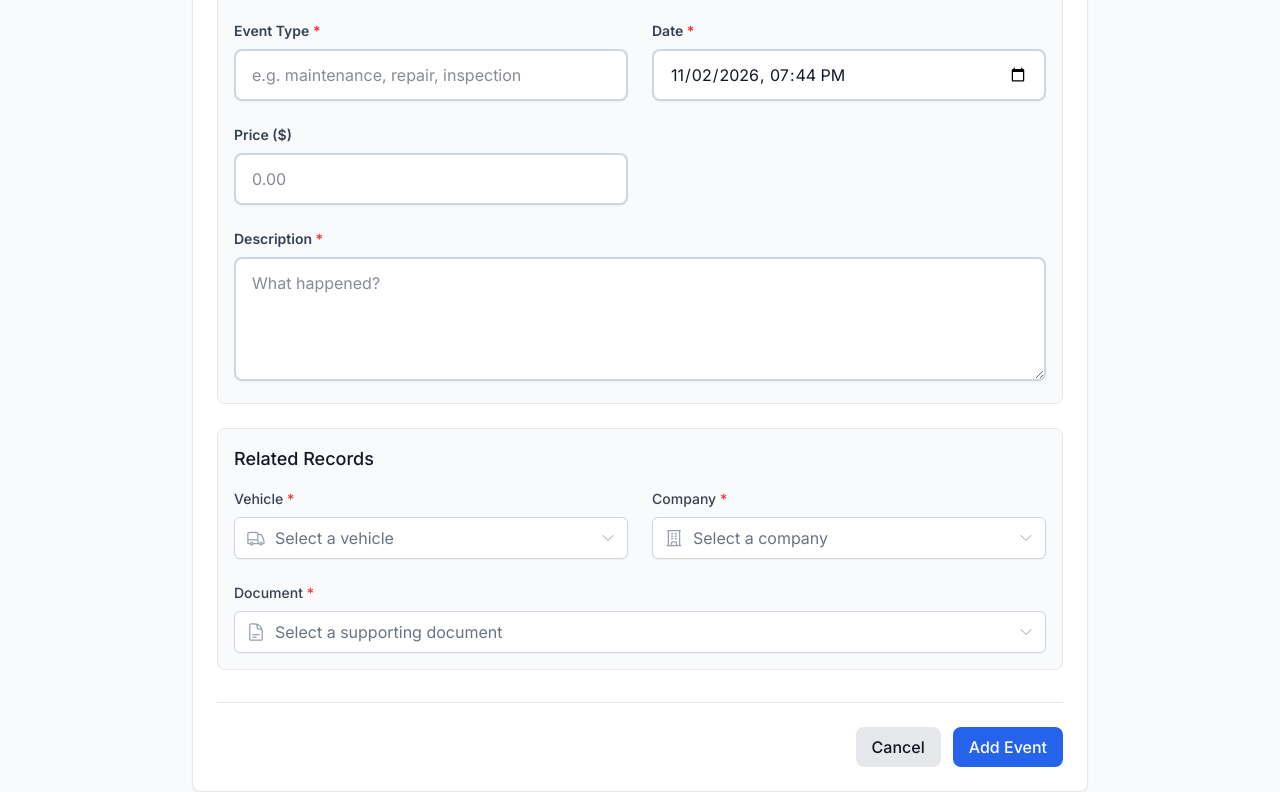
Scenario: EventForm › clears a field's error as soon as it is edited
(page scrolled)
Click the button "Add Event". click: point(1008, 747)
box: [953, 727, 1063, 767]
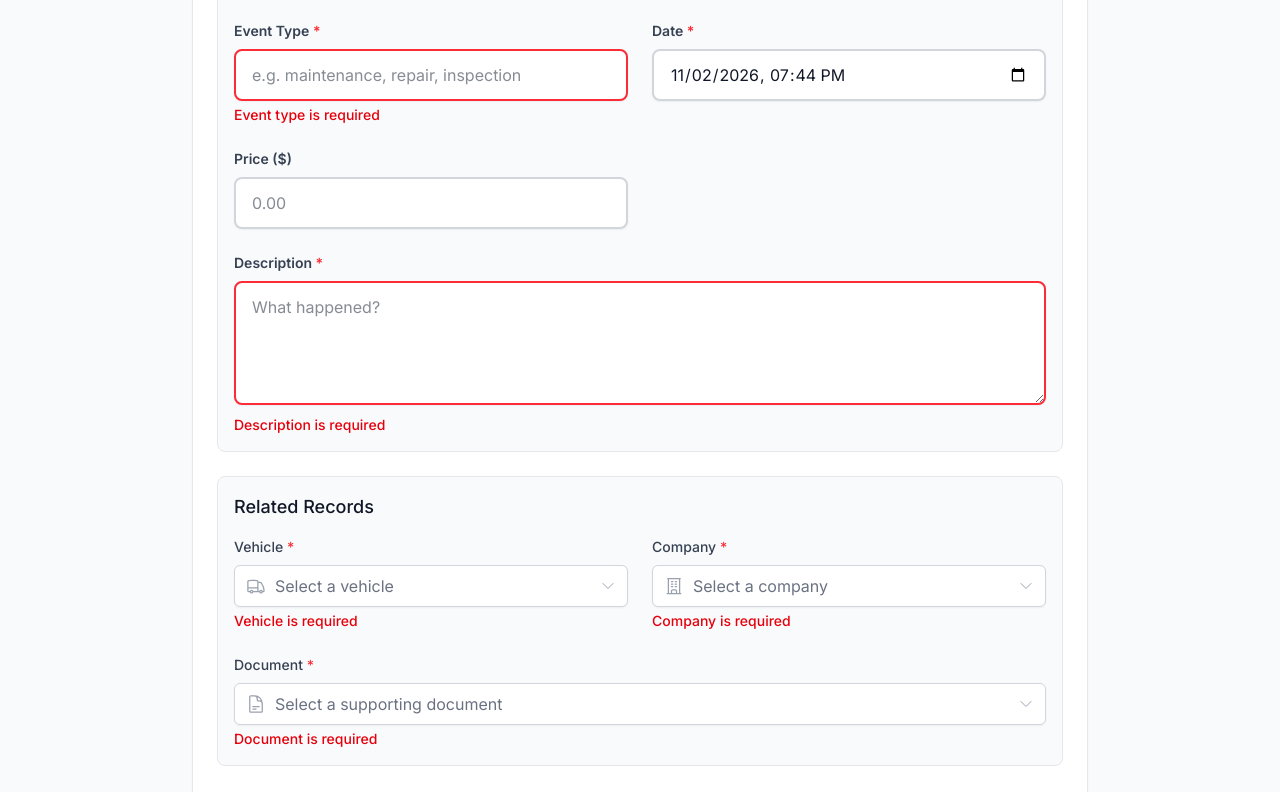
Expected: the text "Event type is required" is shown, [234, 106, 380, 123]
Type "x" into the field with placeholder "e.g. maintenance, repair, inspection". click: point(431, 75)
box: [234, 49, 628, 101]
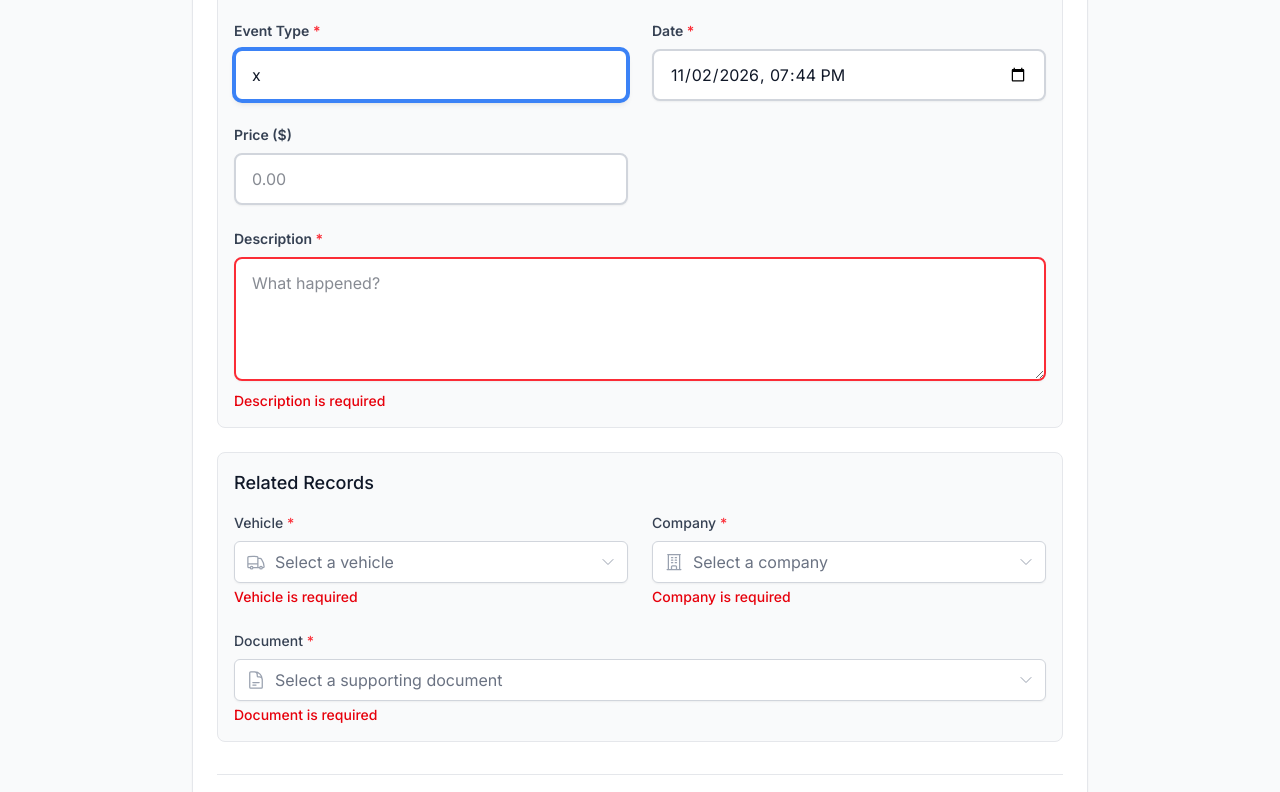
Expected: the text "Event type is required" is gone
